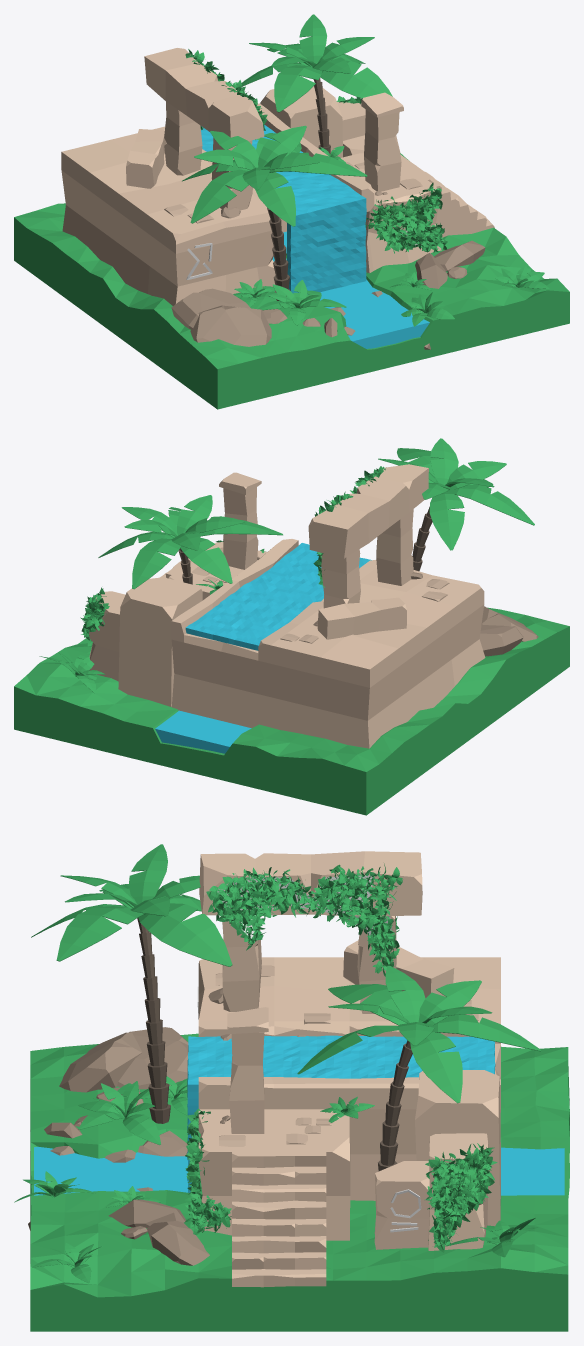
The model's file is 037-ancient-ruins-night.fbx.
The picture shows the model from 3 angles, top to bottom: view 1: azimuth 30°, elevation 25°; view 2: azimuth 150°, elevation 25°; view 3: azimuth 270°, elevation 25°; orthographic projection. The views are drawn at different scales.
Parts seen in each view (by area): view 1: Ground, Ruin, Water, Column.004, Water.001, Column.001, Rock.001, Ruin.001, Column.003, Stairs, Column, Rock (+17 smaller); view 2: Ruin, Ground, Water, Ruin.001, Column.004, Column, Column.001, Water.001, Column.002, Ruin.002, Column.003, Leaf.014 (+14 smaller); view 3: Ground, Ruin, Stairs, Water, Water.001, Column.004, Ruin.001, Column.001, Ruin.003, Leaf.013, Palm.001, Ruin.002 (+21 smaller).
Part boxes in pixels (x1,y1,x2,y2): Ground: [14, 153, 569, 409]; Ruin: [61, 103, 441, 305]; Water: [201, 125, 366, 294]; Column.004: [144, 48, 264, 141]; Water.001: [272, 231, 429, 348]; Column.001: [361, 92, 403, 191]; Rock.001: [190, 305, 271, 346]; Ruin.001: [260, 86, 342, 157]; Column.003: [164, 101, 202, 175]; Stairs: [400, 155, 494, 237]; Column: [126, 129, 166, 188]; Rock: [171, 288, 250, 329]; Ruin: [168, 539, 485, 748]; Ground: [14, 607, 569, 815]; Water: [185, 543, 371, 650]; Ruin.001: [118, 577, 202, 706]; Column.004: [308, 464, 428, 558]; Column: [317, 597, 406, 639]; Column.001: [219, 472, 261, 569]; Water.001: [155, 710, 251, 753]; Column.002: [376, 509, 413, 585]; Ruin.002: [89, 591, 125, 681]; Column.003: [321, 549, 360, 608]; Leaf.014: [429, 491, 464, 550]; Ground: [30, 1033, 569, 1331]; Ruin: [198, 957, 500, 1240]; Stairs: [232, 1149, 326, 1287]; Water: [187, 1035, 495, 1192]; Water.001: [34, 1146, 564, 1195]; Column.004: [199, 851, 422, 916]; Ruin.001: [415, 1070, 500, 1226]; Column.001: [227, 1007, 268, 1133]; Ruin.003: [374, 1161, 429, 1249]; Leaf.013: [138, 903, 232, 966]; Palm.001: [137, 918, 170, 1123]; Ruin.002: [428, 1133, 488, 1250].
Size of what is drawn, in the model's own units: 804 by 553 by 827.
